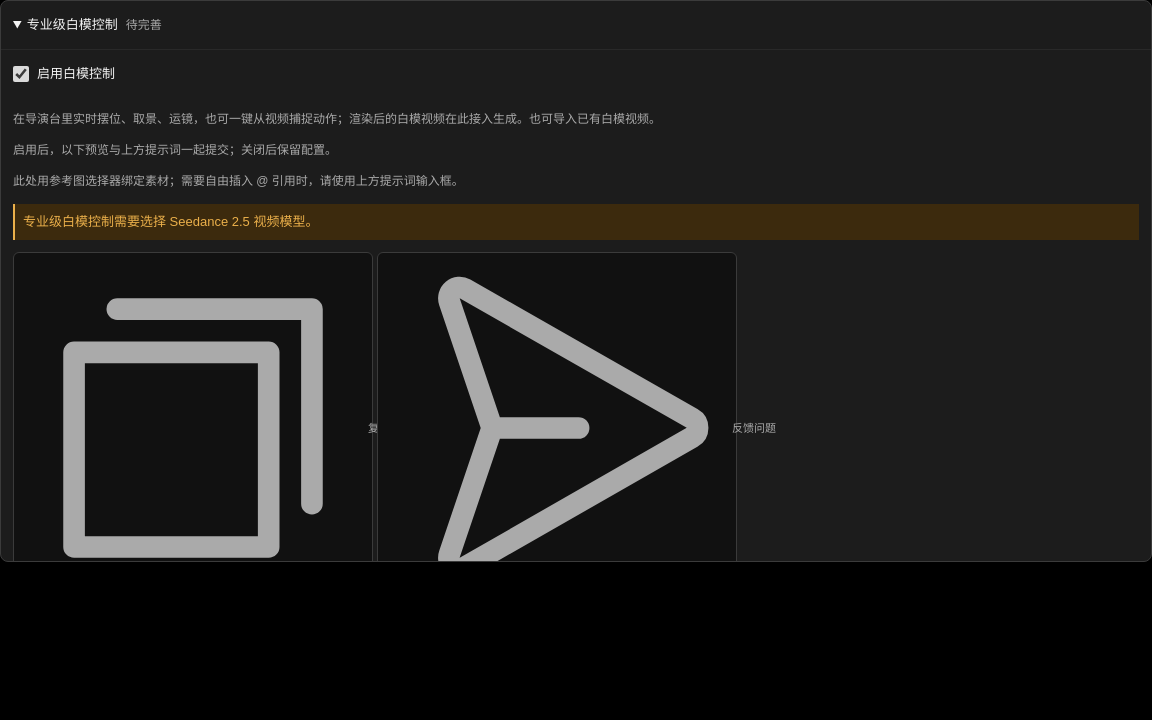
Test: WhiteModelControlSection › allows disabling retained settings on incompatible wan3.0-video / reference
Check: the message shows "Seedance 2.5", box [23,214,318,229]
What coordinates should you click on to do the following:
click the checkbox labelled "启用白模控制"
I would click on:
 (21, 74)
Its box is [13,66,29,82].
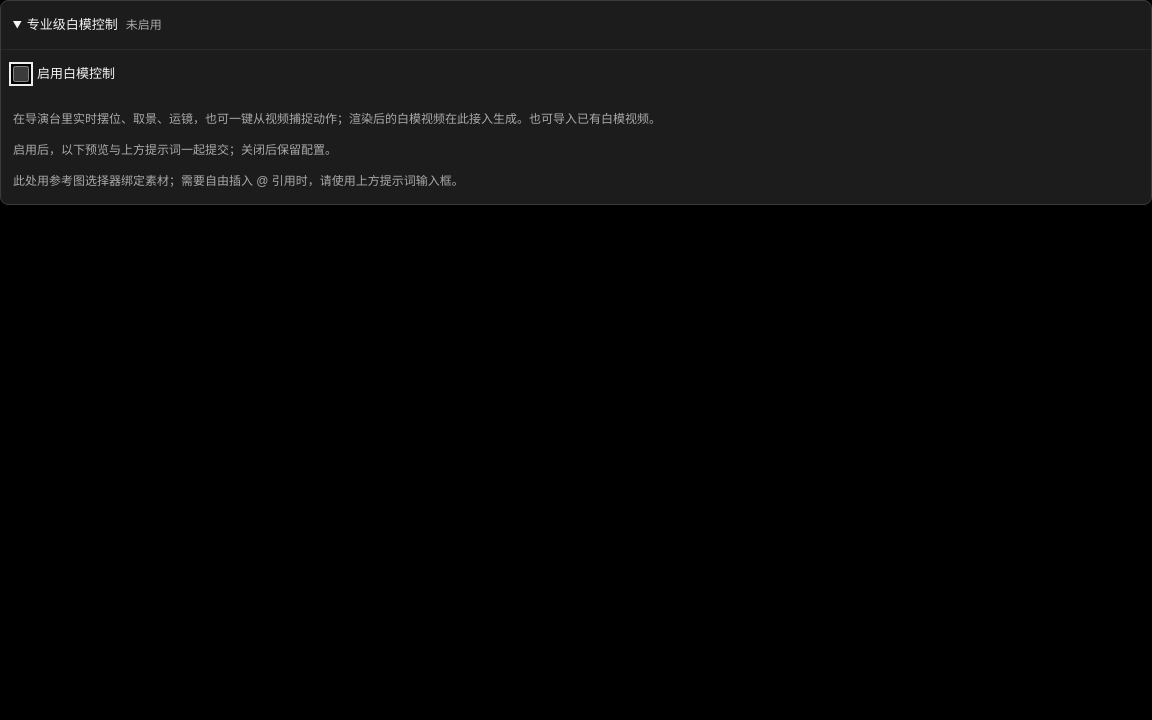
Check: the message "专业级白模控制需要选择 Seedance 2.5 视频模型。" is gone
